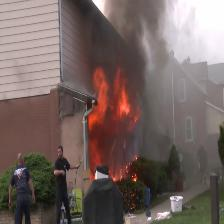fire: (74, 58, 173, 224)
smoke: (64, 0, 224, 81)
